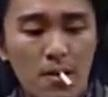smoke: (57, 69, 73, 87)
